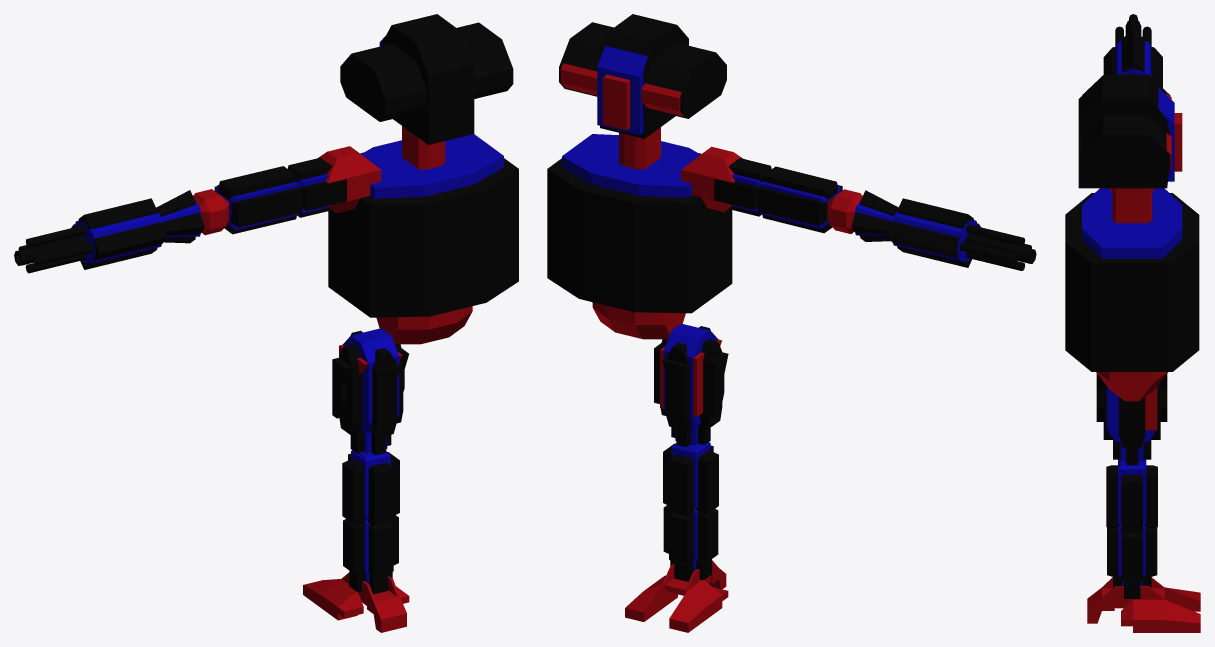
The model's file is level3robotAyrParcalar (2).fbx.
3 views of the same model, side by side, from view 1: azimuth 30°, elevation 25°; view 2: azimuth 150°, elevation 25°; view 3: azimuth 270°, elevation 25° (orthographic). The views are drawn at different scales.
Parts seen in each view (by area): view 1: Body, Head, leftupLeg, leftdownLeg, leftuparm, LeftDownArm, leftfoot, LeftGun, leftshoulder, leftelbow; view 2: Body, Head, leftupLeg, leftdownLeg, leftuparm, LeftDownArm, leftfoot, LeftGun, leftshoulder, leftelbow; view 3: Body, Head, leftdownLeg, leftfoot, leftupLeg, LeftDownArm, LeftGun.
Boxes of the visible parts, <box> form: Body: <box>328,126,518,344</box>; Head: <box>340,14,513,144</box>; leftupLeg: <box>332,328,408,455</box>; leftdownLeg: <box>342,450,399,594</box>; leftuparm: <box>214,157,347,234</box>; LeftDownArm: <box>71,190,204,269</box>; leftfoot: <box>303,572,409,632</box>; LeftGun: <box>14,225,93,273</box>; leftshoulder: <box>318,146,381,213</box>; leftelbow: <box>193,189,229,235</box>; Body: <box>547,127,732,339</box>; Head: <box>559,14,726,138</box>; leftupLeg: <box>654,323,728,447</box>; leftdownLeg: <box>663,442,718,581</box>; leftuparm: <box>714,158,842,233</box>; LeftDownArm: <box>851,190,980,267</box>; leftfoot: <box>625,560,728,632</box>; LeftGun: <box>959,224,1036,270</box>; leftshoulder: <box>681,146,742,211</box>; leftelbow: <box>827,189,862,233</box>; Body: <box>1065,188,1199,401</box>; Head: <box>1078,74,1182,188</box>; leftdownLeg: <box>1106,459,1157,598</box>; leftfoot: <box>1087,577,1200,632</box>; leftupLeg: <box>1096,373,1167,465</box>; LeftDownArm: <box>1103,30,1162,87</box>; LeftGun: <box>1115,14,1151,46</box>.
Size of the model in its own units: 323 by 81.9 by 370.
